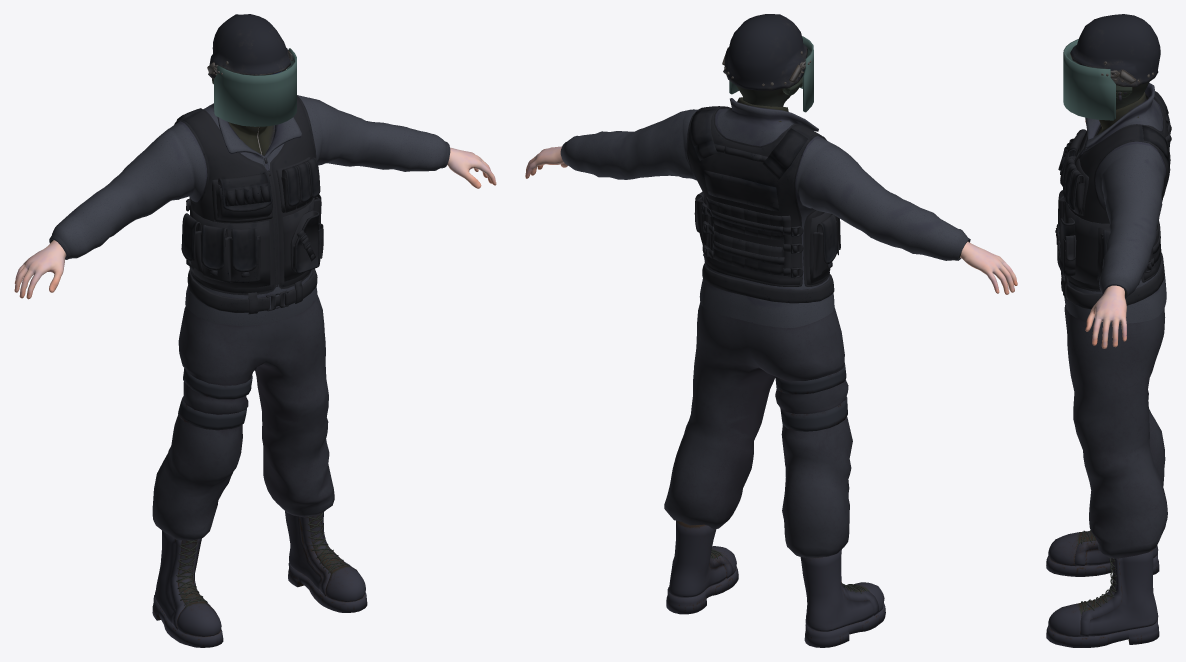
File: U_guard.fbx
3 views of the same model, side by side, from view 1: azimuth 30°, elevation 25°; view 2: azimuth 150°, elevation 25°; view 3: azimuth 270°, elevation 25° (orthographic). The views are drawn at different scales.
Parts seen in each view (by area): view 1: QK_L, WN_L, DHT_L, TLS_L, HD_L, THS_L; view 2: QK_L, DHT_L, WN_L, TLS_L, HD_L, THS_L; view 3: QK_L, DHT_L, WN_L, TLS_L, HD_L, THS_L.
Boxes of the visible parts, x1,y1,x2,y2 form: QK_L: (152, 294, 334, 540); WN_L: (174, 95, 323, 314); DHT_L: (49, 95, 450, 326); TLS_L: (152, 511, 367, 647); HD_L: (207, 14, 296, 126); THS_L: (14, 147, 496, 299); QK_L: (664, 302, 852, 557); DHT_L: (560, 97, 970, 328); WN_L: (686, 106, 840, 303); TLS_L: (666, 520, 885, 647); HD_L: (722, 14, 813, 112); THS_L: (525, 146, 1017, 294); QK_L: (1064, 305, 1167, 558); DHT_L: (1064, 82, 1166, 324); WN_L: (1055, 91, 1171, 309); TLS_L: (1046, 530, 1159, 647); HD_L: (1063, 14, 1160, 120); THS_L: (1085, 120, 1126, 348).
Size of the model in its own units: 1110 by 1310 by 255.
